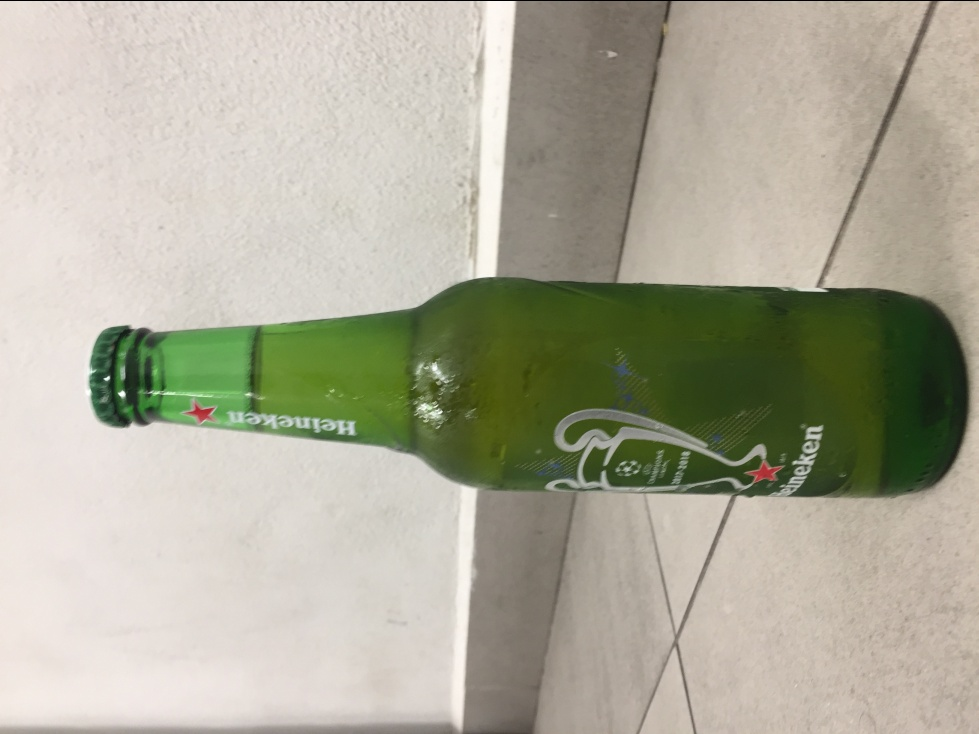heineken: (87, 275, 973, 502)
